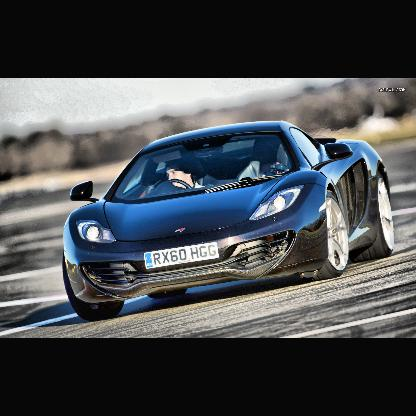McLaren MP4-12C Coupe 2012: (63, 121, 395, 321)
